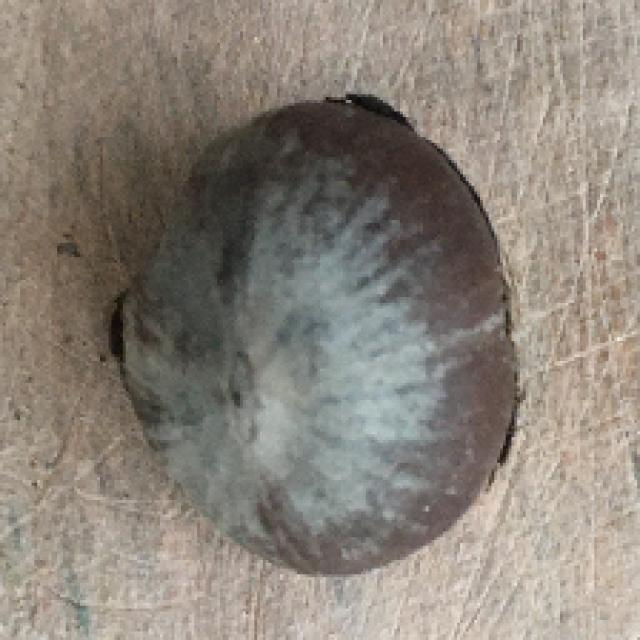DamagedHazelnut: (116, 102, 522, 575)
